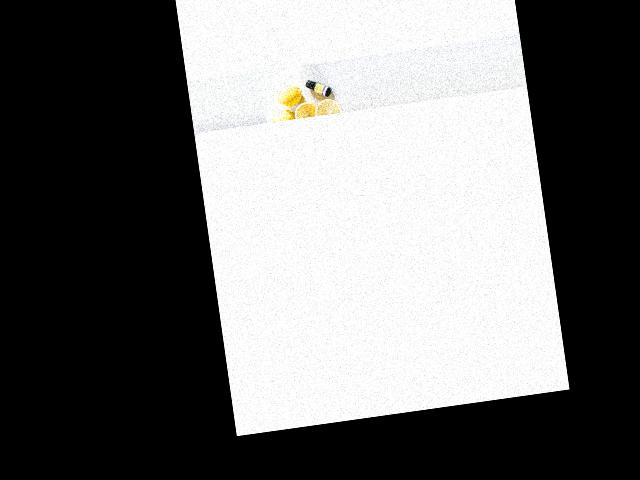lemon: (275, 85, 302, 106)
